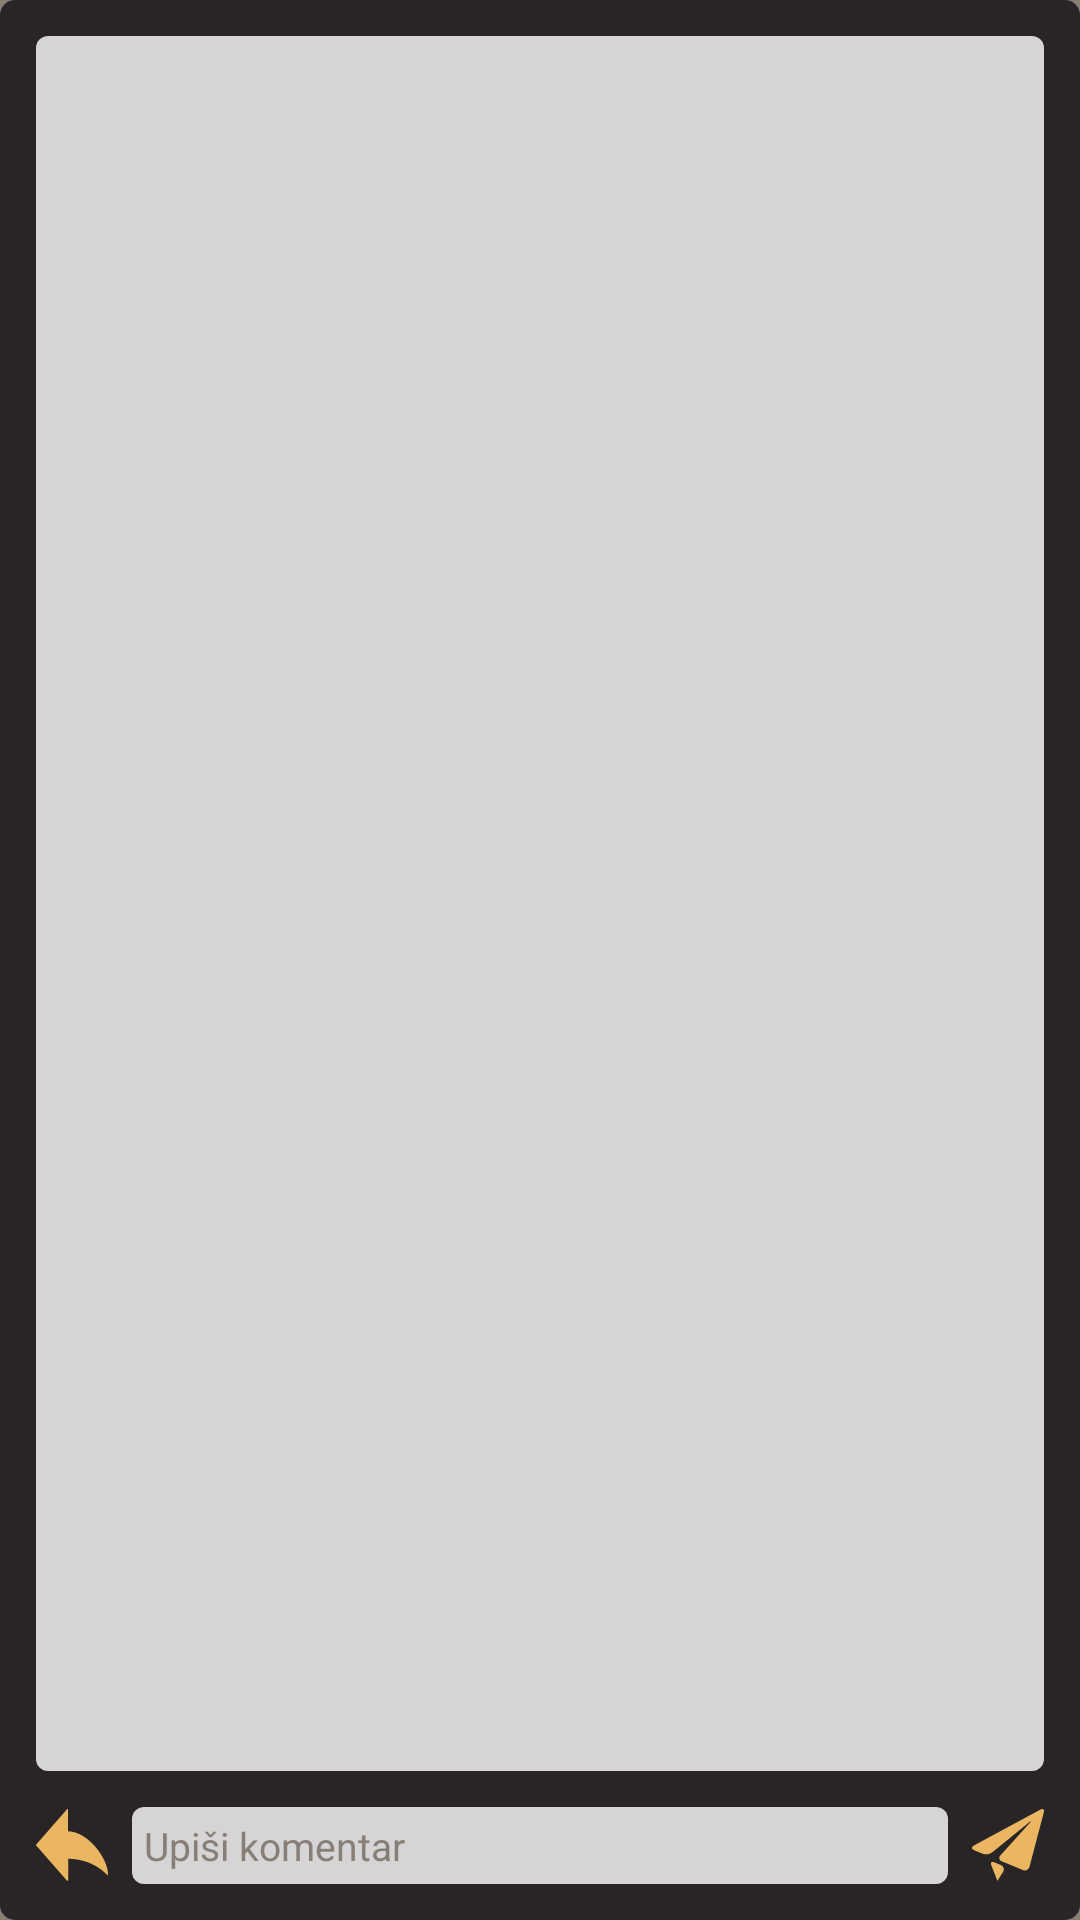

Where to tap for icons on this 1080px×1920px app screen, as [x,y]:
return from comment: [72,1845]
send comment: [1008,1845]
